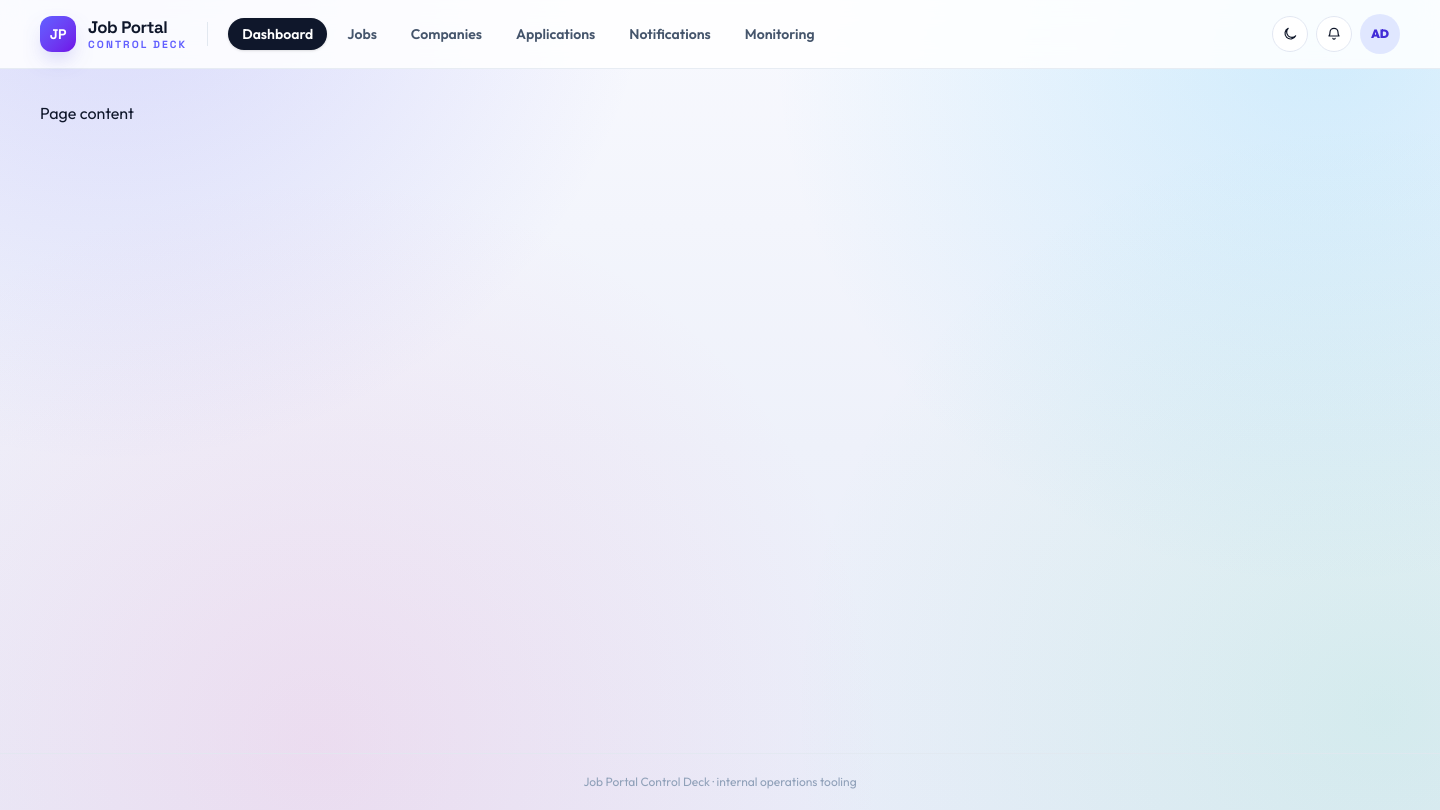
Test: AppLayout › opens the account dropdown with profile, settings, and logout, and only one Profile entry point
Expected: the link "Profile" is not shown
Click the button named "Open account menu". click: (1380, 34)
box: x1=1360 y1=14 x2=1400 y2=54
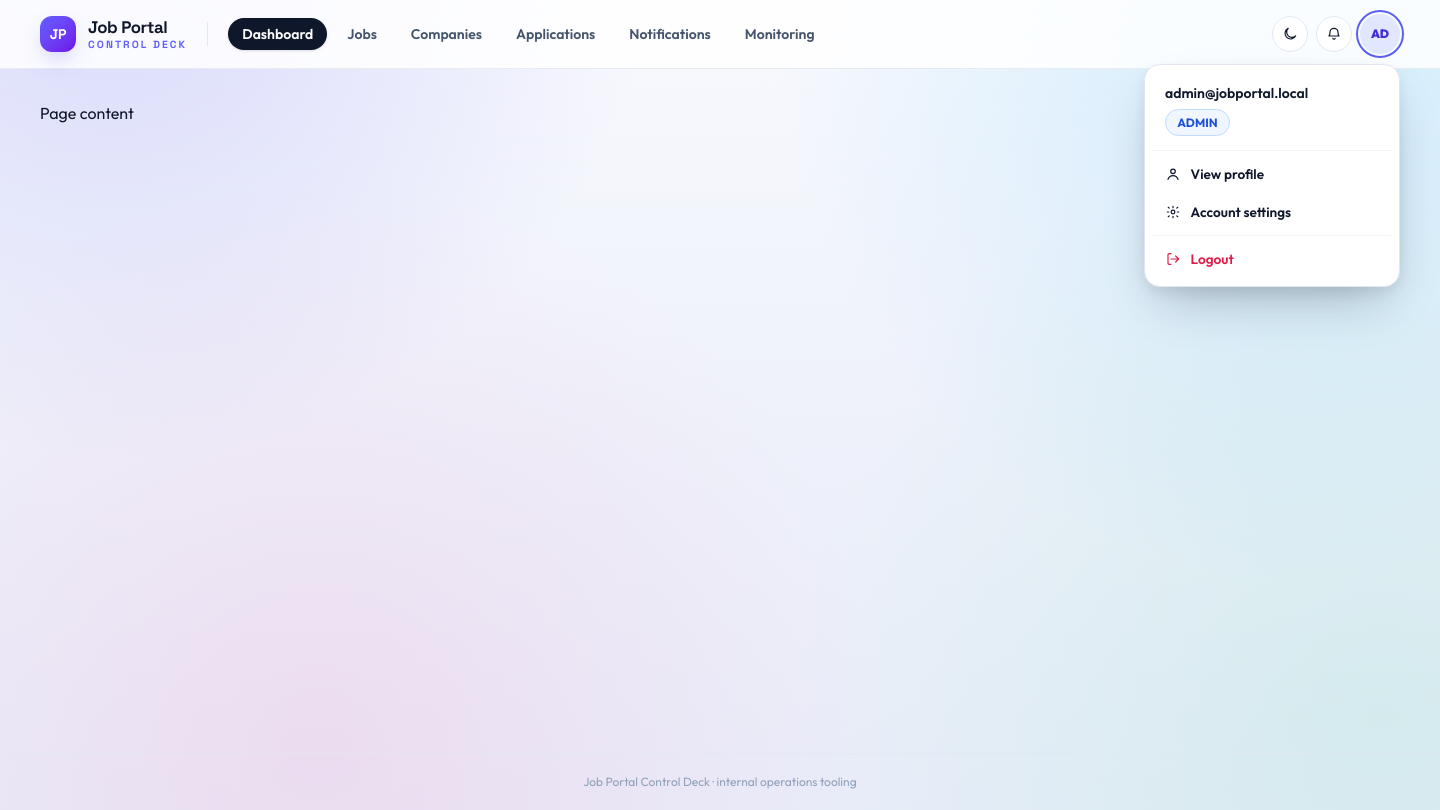
Result: the text "admin@jobportal.local" is shown at x1=1165 y1=84 x2=1308 y2=102
Result: the link "View profile" is shown at x1=1165 y1=165 x2=1264 y2=183
Result: the link "Account settings" is shown at x1=1165 y1=202 x2=1291 y2=220
